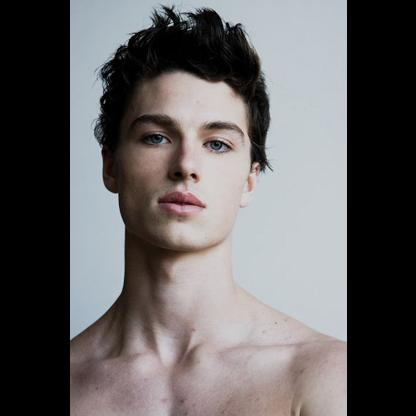Male: (104, 70, 258, 252)
